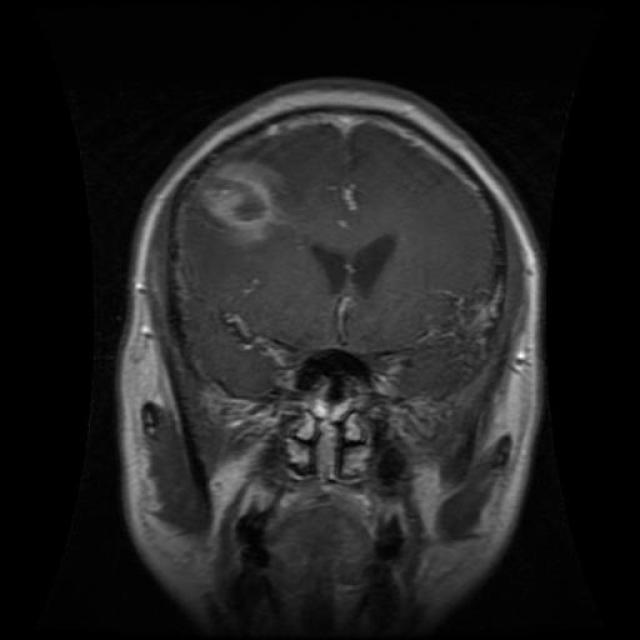glioma: (204, 155, 298, 249)
